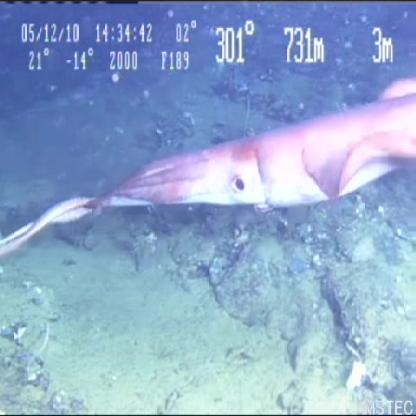Bio: (1, 76, 416, 257)
